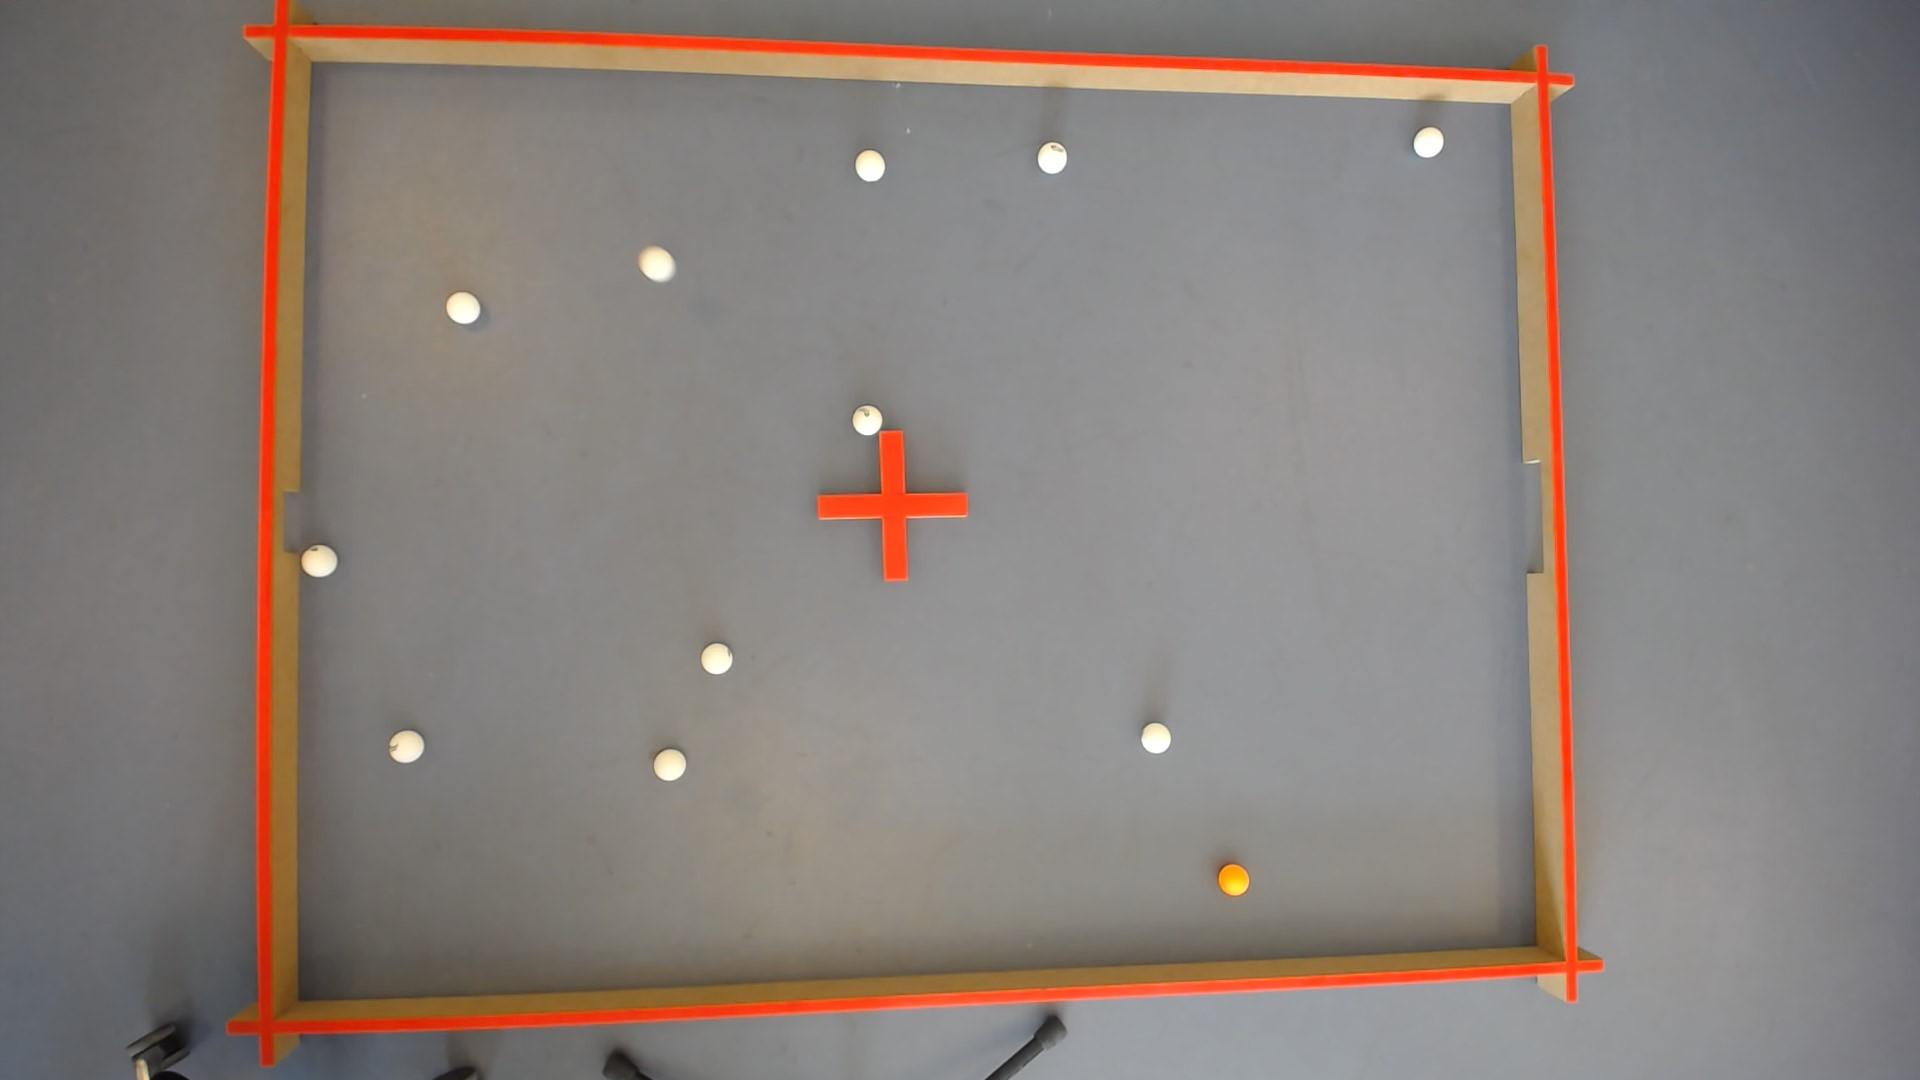orange: (1218, 862, 1251, 898)
white: (637, 245, 675, 280), (298, 543, 336, 576), (386, 731, 423, 762), (444, 290, 479, 323), (651, 748, 686, 781), (700, 642, 732, 674), (1415, 124, 1447, 156), (855, 146, 885, 179), (852, 404, 884, 434), (1038, 140, 1068, 171), (1143, 723, 1172, 753)
